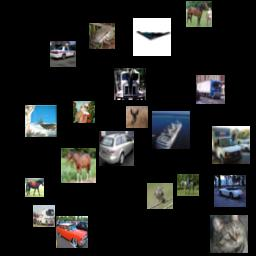airplane: (133, 18, 171, 56)
automobile: (99, 131, 134, 166), (214, 175, 246, 207), (56, 216, 88, 248), (50, 41, 76, 67)
bird: (147, 183, 173, 209)
cat: (210, 215, 248, 253)
deer: (25, 105, 57, 137), (126, 106, 148, 128)
dog: (73, 101, 95, 123)
frog: (89, 23, 115, 49)
ship: (152, 111, 190, 149)
truck: (212, 126, 250, 164), (114, 68, 146, 100), (196, 75, 225, 104), (33, 205, 55, 227)
